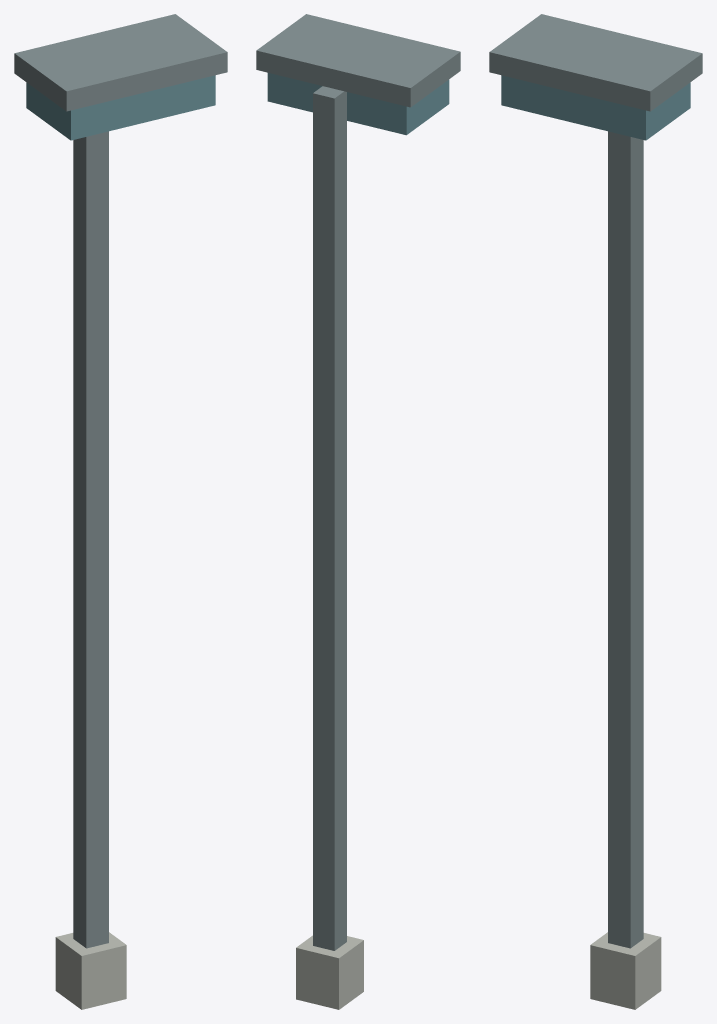
Rendered from lamp.glb.
3 views of the same model, side by side, from view 1: azimuth 30°, elevation 25°; view 2: azimuth 150°, elevation 25°; view 3: azimuth 330°, elevation 25° (orthographic). The views are drawn at different scales.
Bounding box in the file's own units: 0.5 × 2.86 × 0.37.
